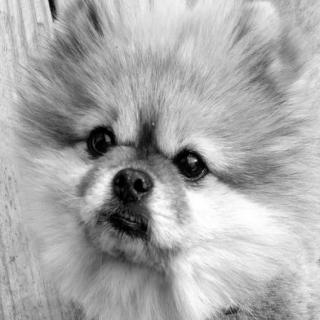dog: (19, 0, 320, 291)
nose: (107, 167, 158, 206)
